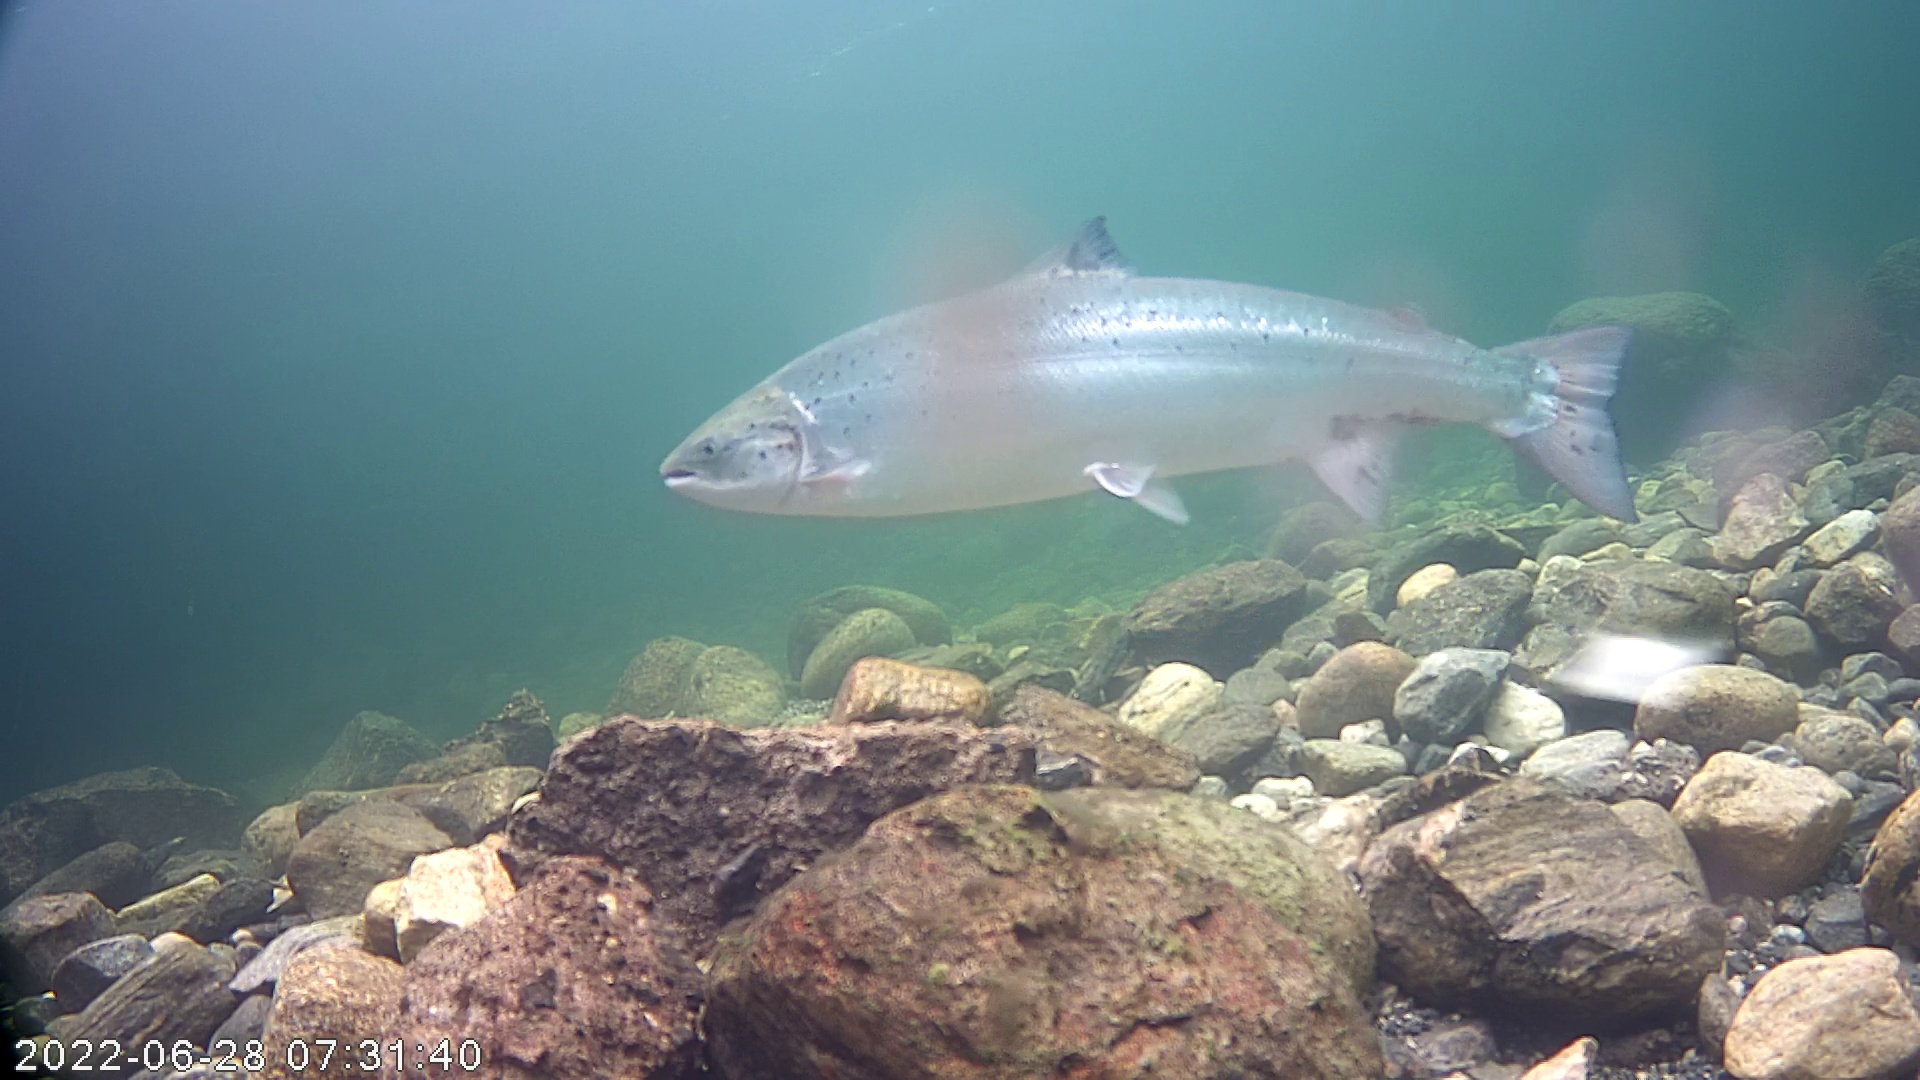salmon: (654, 131, 1687, 597)
